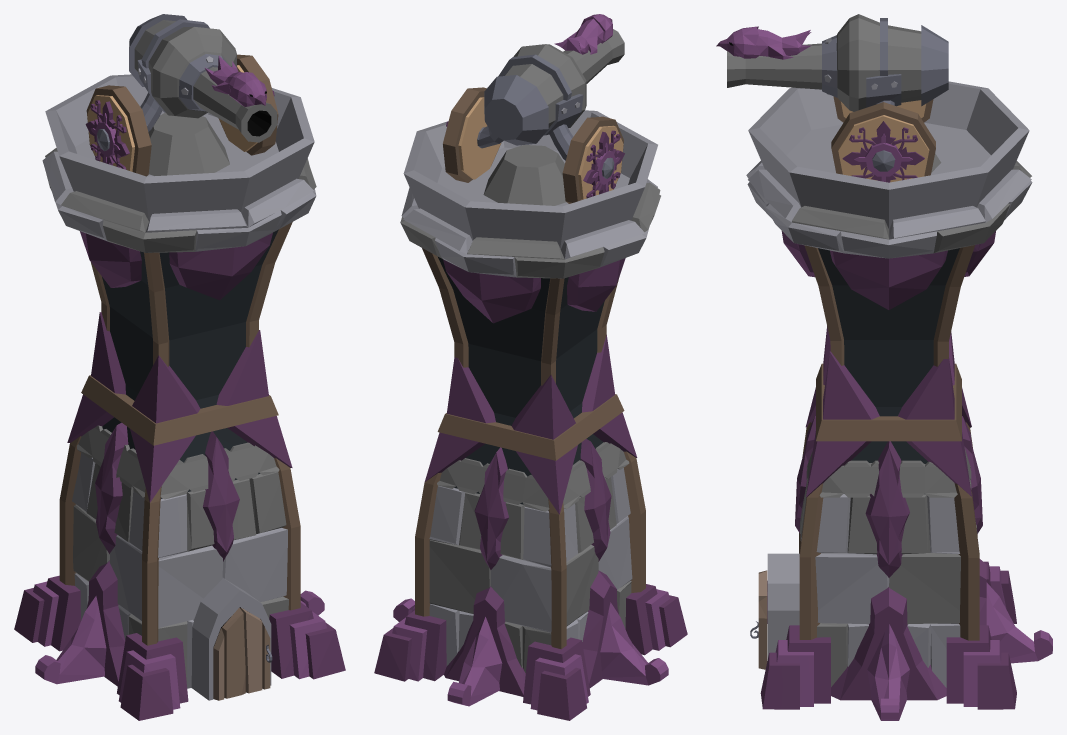
File: Cannon_LVL3.fbx
3 views of the same model, side by side, from view 1: azimuth 30°, elevation 25°; view 2: azimuth 150°, elevation 25°; view 3: azimuth 270°, elevation 25° (orthographic). The views are drawn at different scales.
Parts seen in each view (by area): view 1: Cannon_tower_LVL_3, Cannon_tower_LVL_3.001; view 2: Cannon_tower_LVL_3, Cannon_tower_LVL_3.001; view 3: Cannon_tower_LVL_3, Cannon_tower_LVL_3.001.
Boxes of the visible parts, left/top/right/bottom form: Cannon_tower_LVL_3: left=14, top=74, right=345, bottom=720; Cannon_tower_LVL_3.001: left=85, top=14, right=278, bottom=176; Cannon_tower_LVL_3: left=374, top=110, right=687, bottom=720; Cannon_tower_LVL_3.001: left=443, top=14, right=624, bottom=203; Cannon_tower_LVL_3: left=746, top=81, right=1052, bottom=720; Cannon_tower_LVL_3.001: left=716, top=14, right=948, bottom=182.
Size of the model in its own units: 690 by 1488 by 709.
